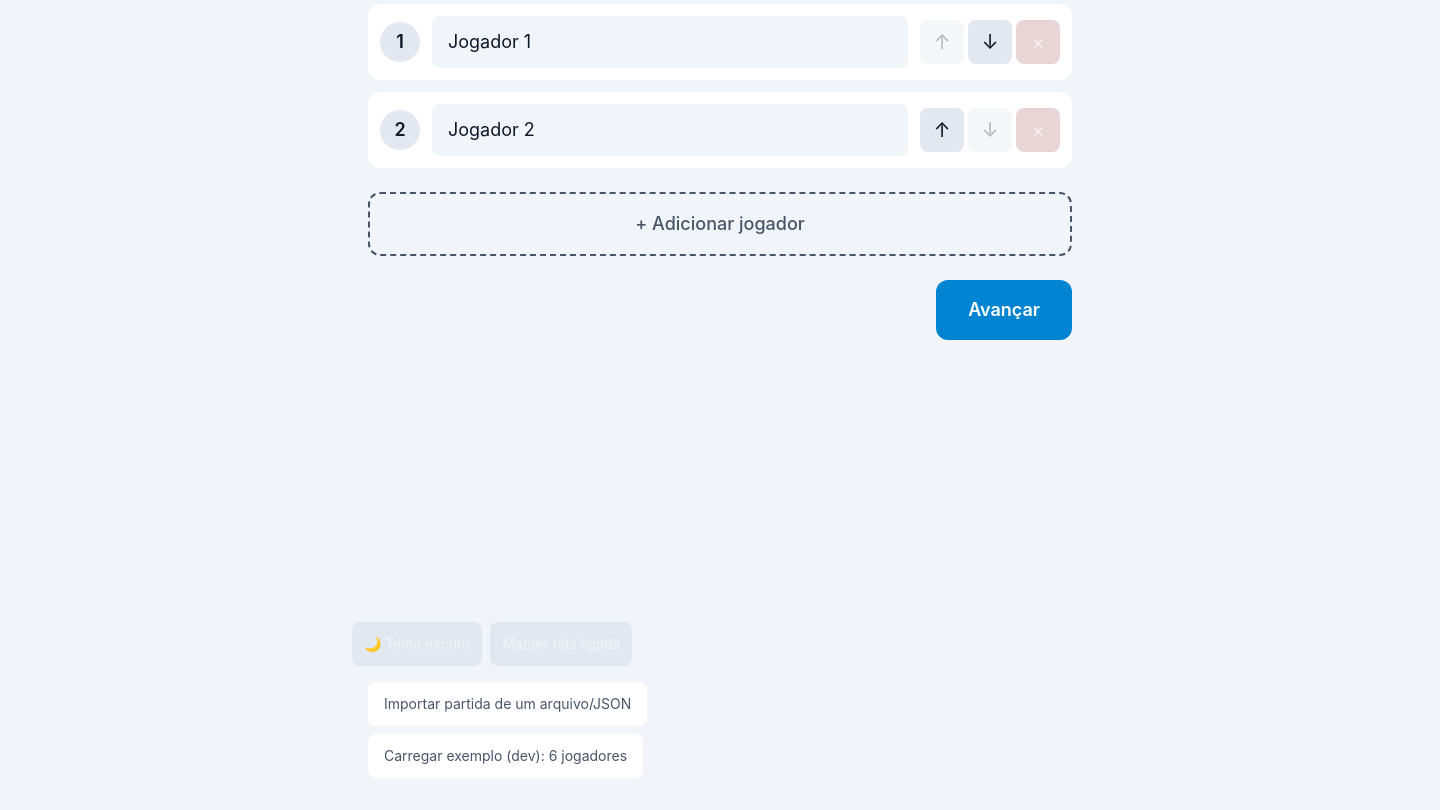
Scenario: Dashboard — critério de aceite (6 jogadores, fixture de dev) › salva a situação do mapa e preenche a próxima Tributação
(page scrolled)
Step 1. Click the button "Carregar exemplo (dev): 6 jogadores" → (506, 756), box left=368, top=734, right=643, bottom=778
(page scrolled)
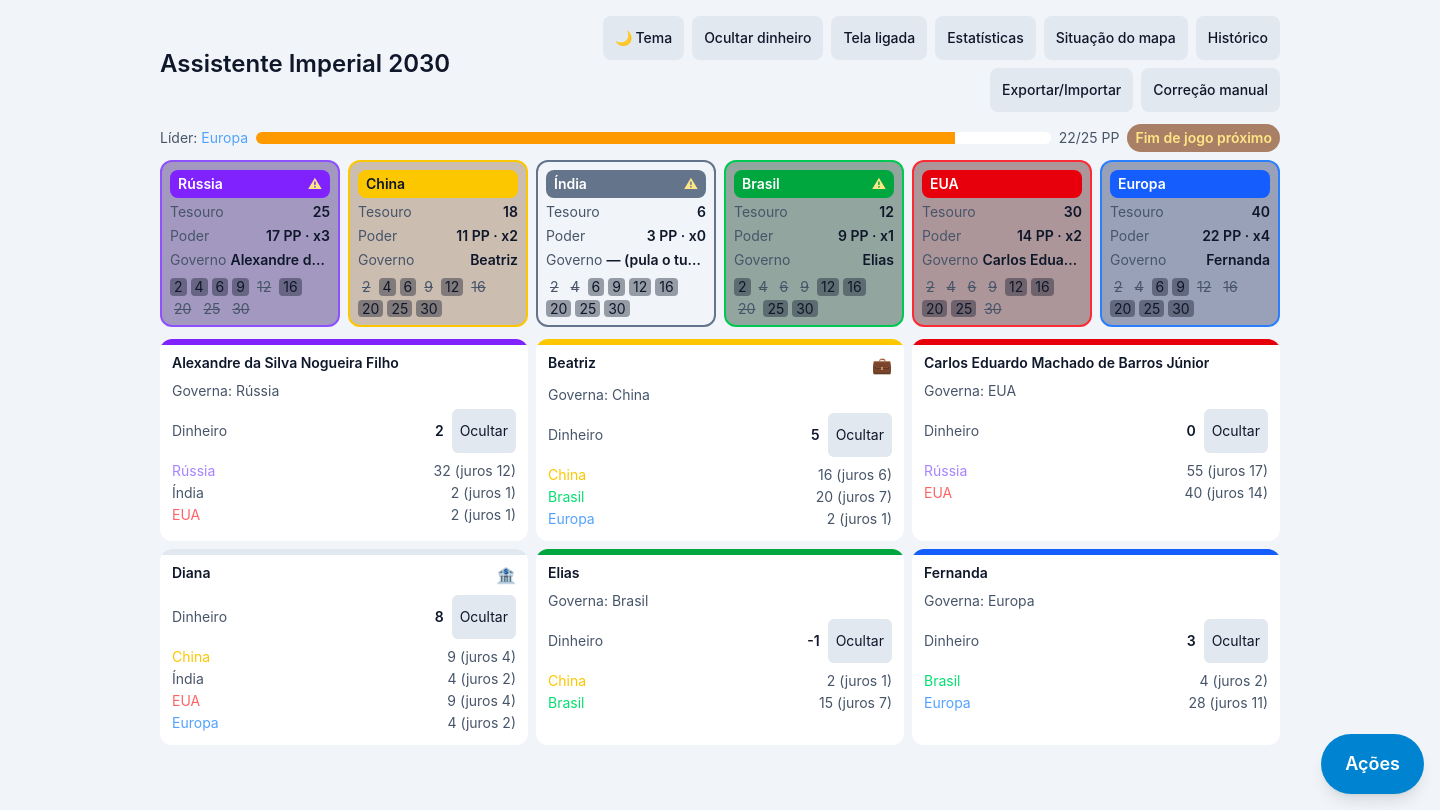
Step 2. Click the button "Situação do mapa" → (1116, 38), box left=1044, top=16, right=1188, bottom=60
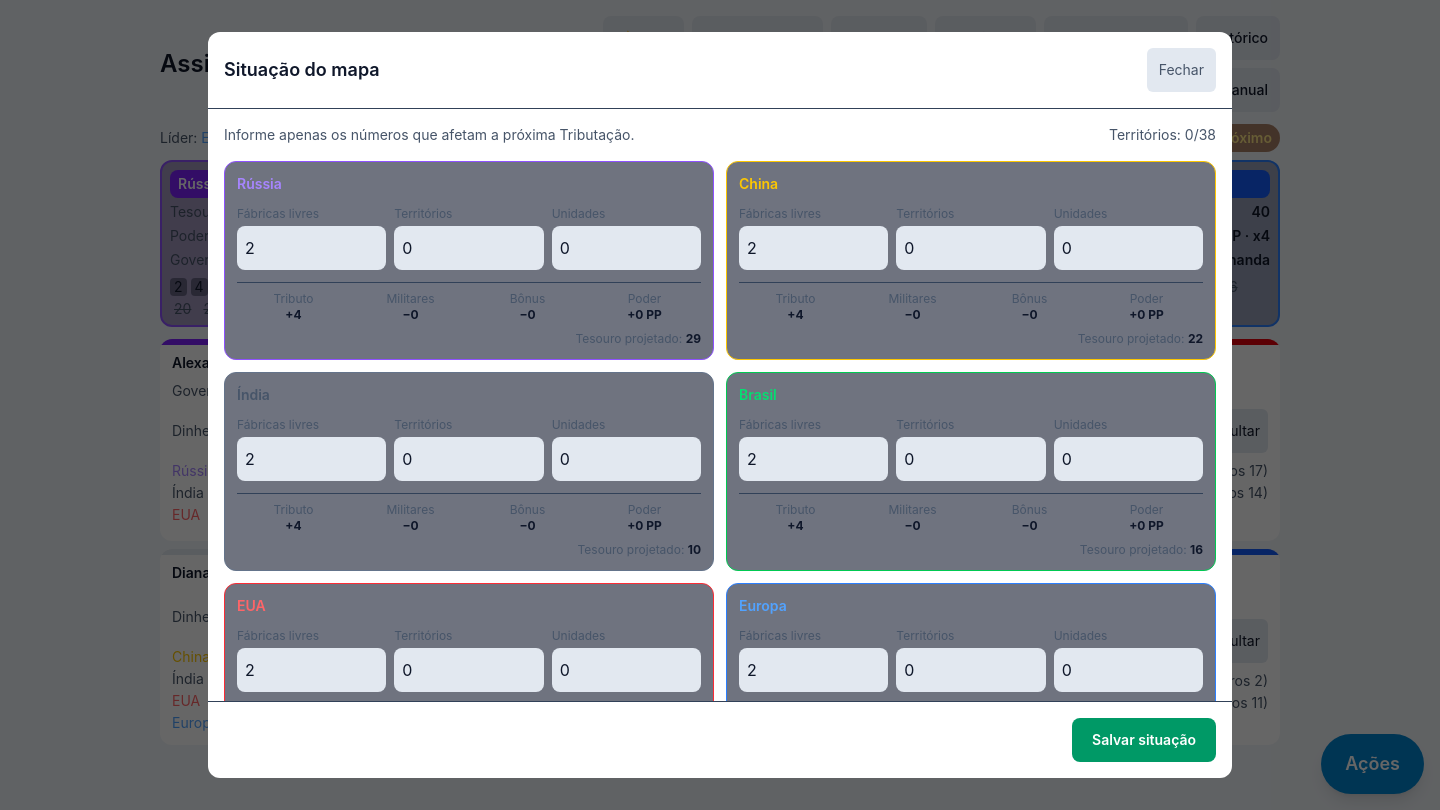
Step 3. Replace the text in the number field named "Territórios de Rússia" with "4" → (469, 248), box left=394, top=226, right=544, bottom=270
Step 4. Replace the text in the number field named "Unidades militares de Rússia" with "3" → (626, 248), box left=552, top=226, right=701, bottom=270
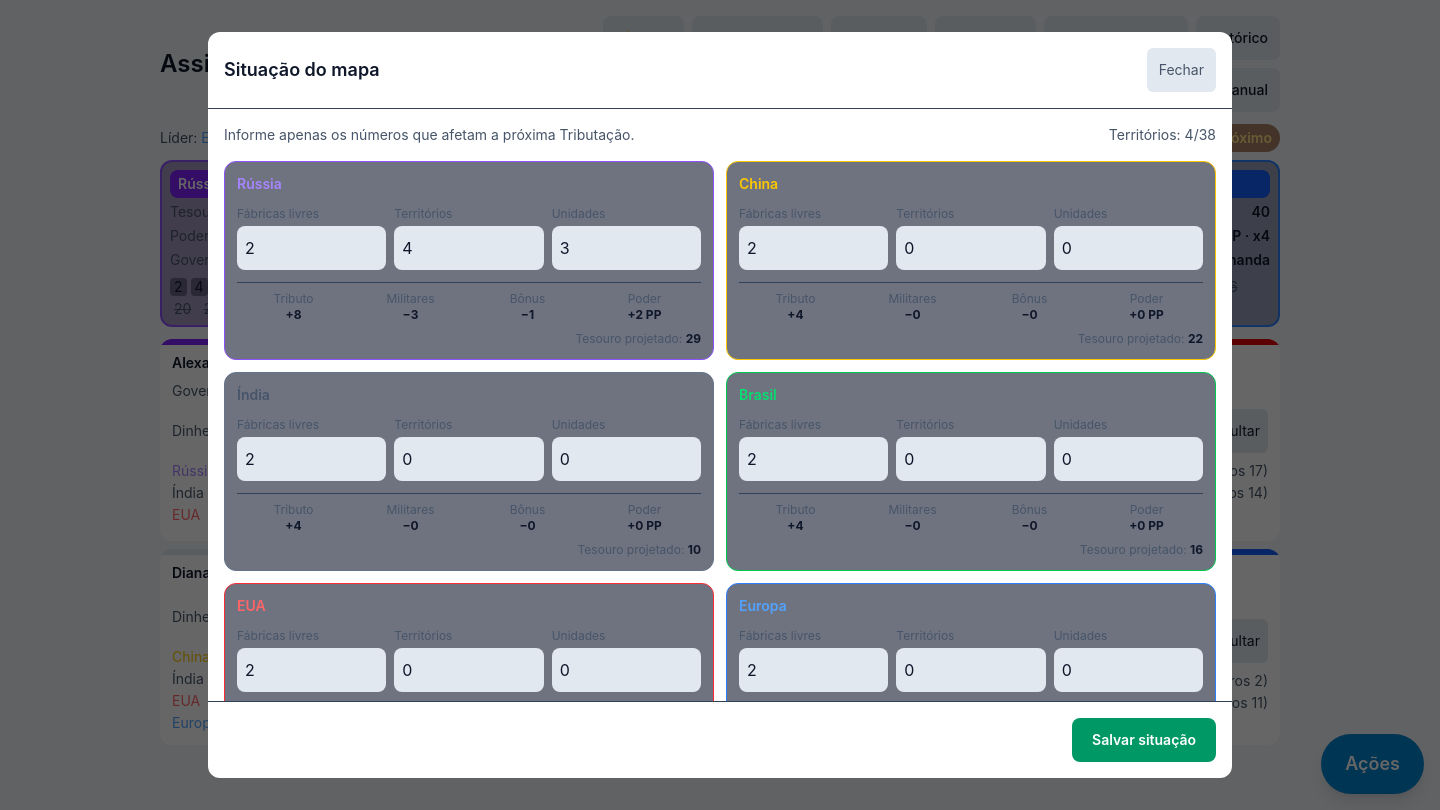
Step 5. Click the button "Salvar situação" → (1144, 740), box left=1072, top=718, right=1216, bottom=762
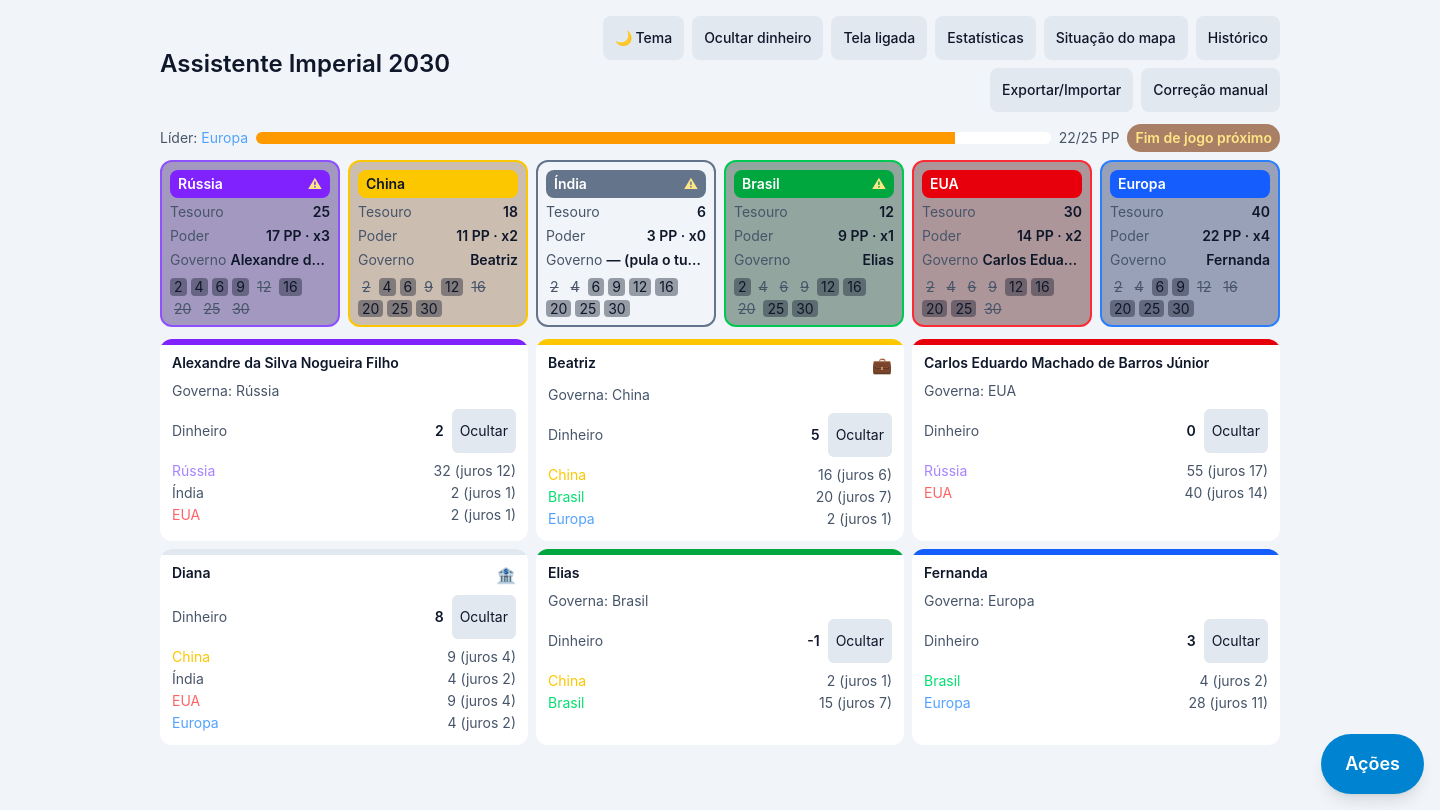
Step 6. Click the button "Ações" → (1373, 764), box left=1321, top=734, right=1424, bottom=794
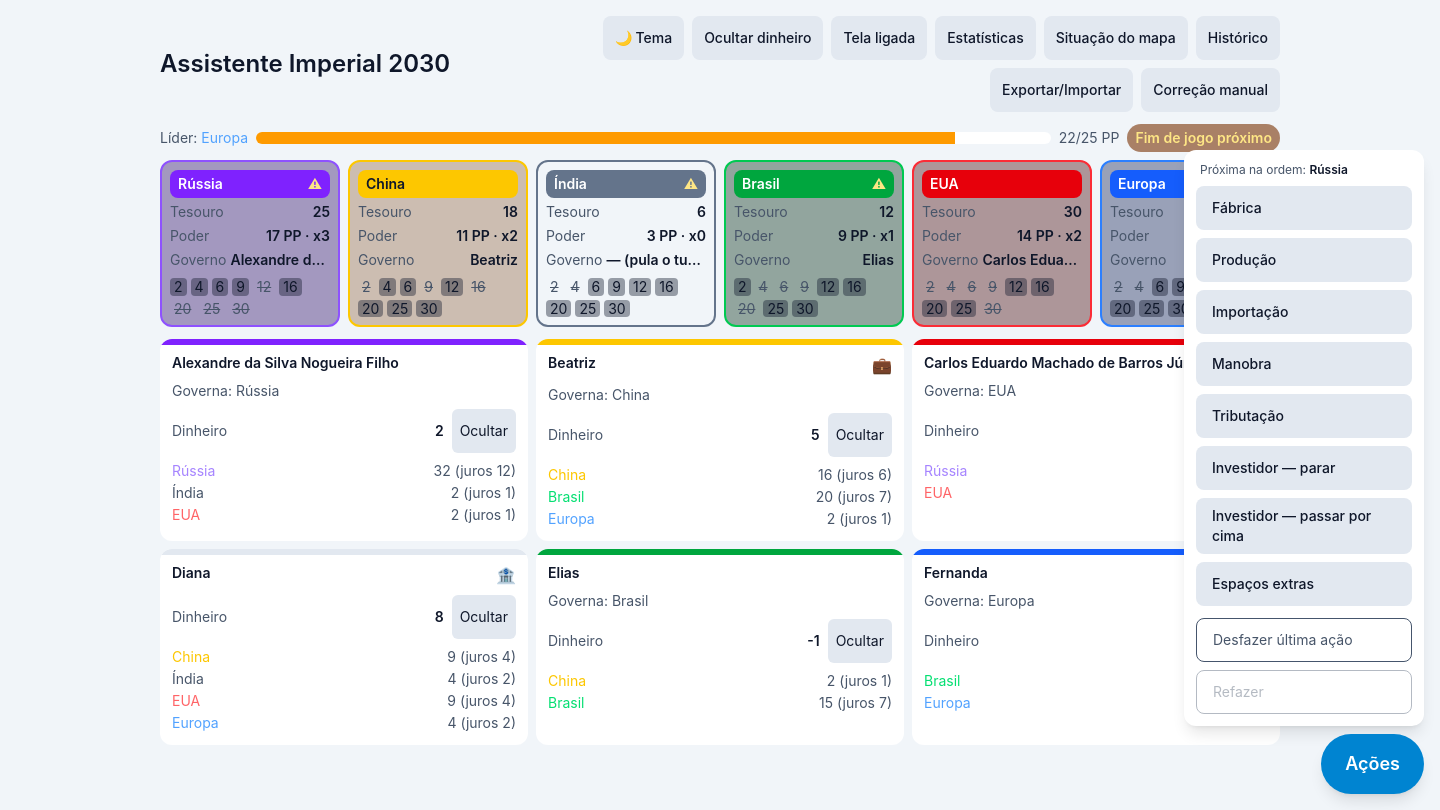
Step 7. Click the button "Tributação" → (1304, 416), box left=1196, top=394, right=1412, bottom=438
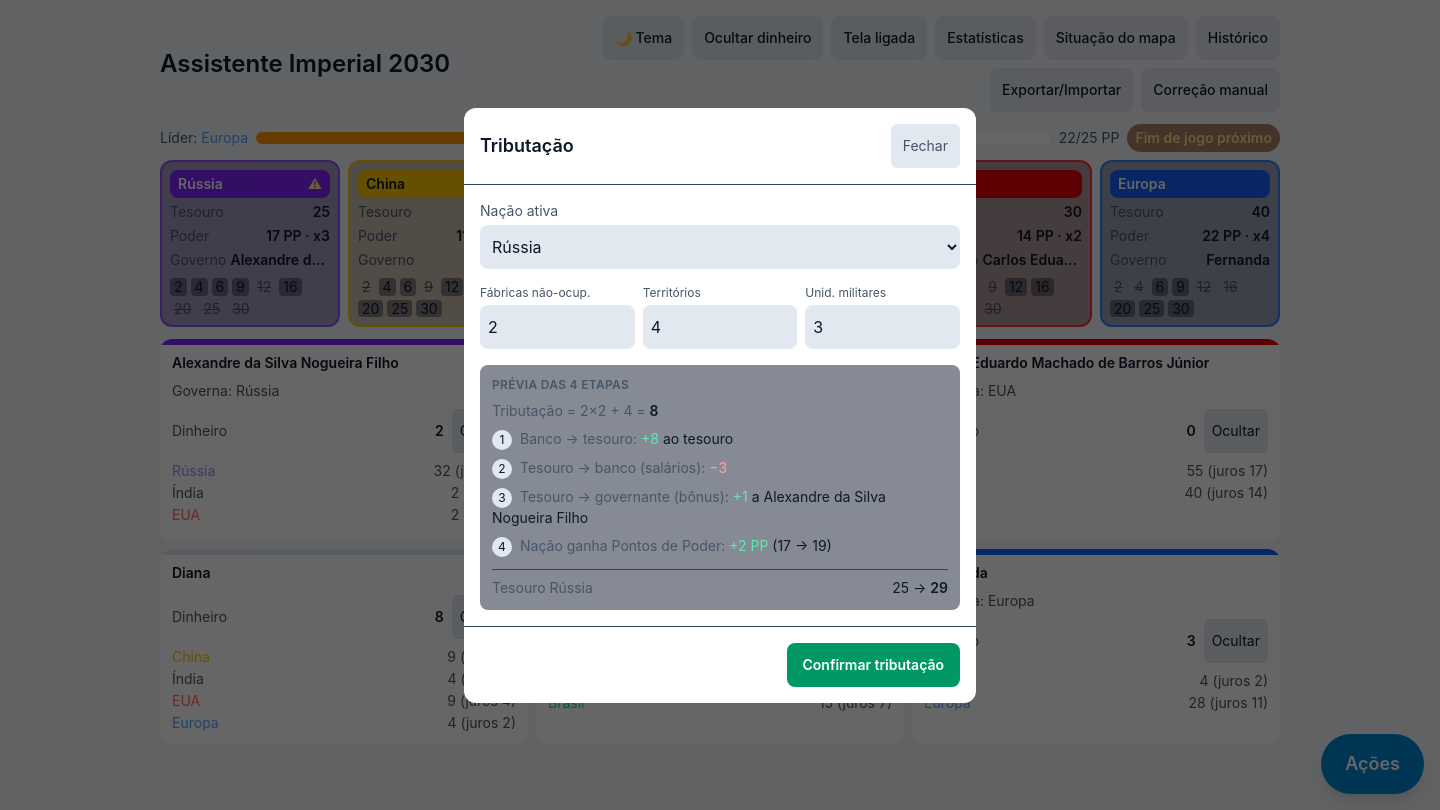
Expected: the number field labelled "Territórios" holds "4", left=643, top=304, right=797, bottom=348
Expected: the number field labelled "Unid. militares" holds "3", left=805, top=304, right=960, bottom=348
